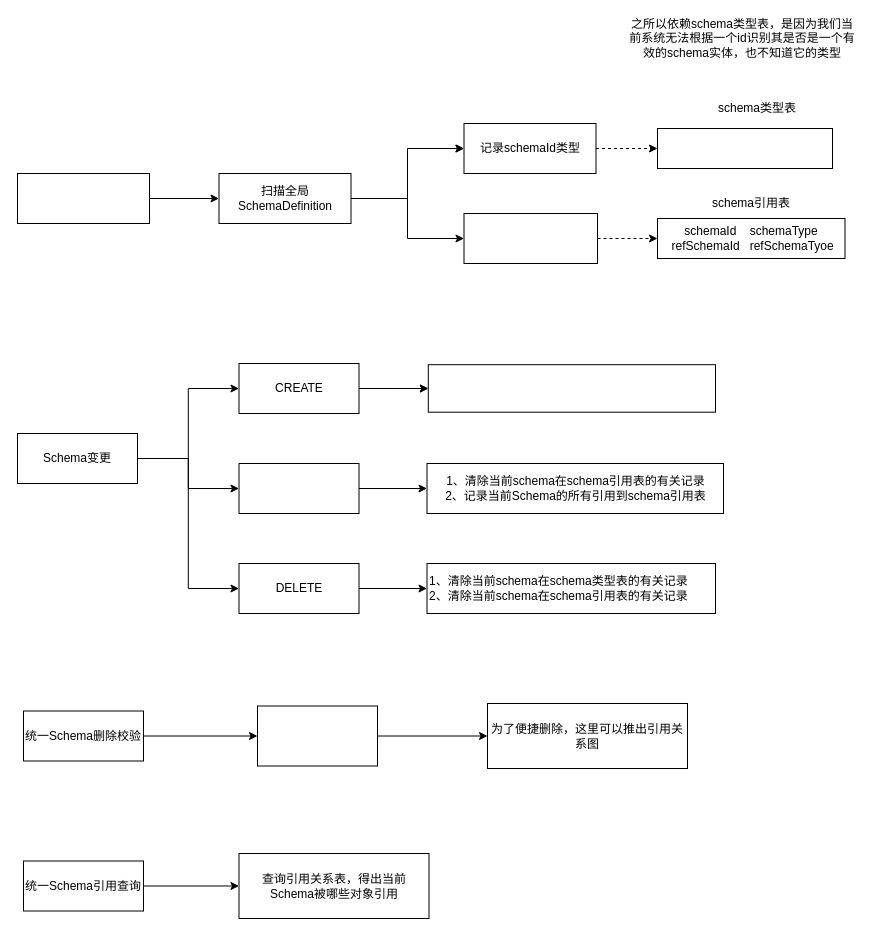
The diagram is 875 pixels wide and 936 high, and some of its shapes have lost their labels. The shapes that lost their labels are listed below. From the top down, each one's box as (x1, y1, x2, y2) in pixels, then its label:
(656, 128, 832, 168): schemaId -> SchemaType
(16, 172, 150, 224): 存量数据追补
(463, 212, 598, 264): 解析SchemaDefinition，记录它所有的引用
(427, 364, 716, 412): 1、记录当前Schema的类型到schema类型表 2、记录当前Schema的所有引用到schema引用表
(238, 462, 359, 514): UPDATE
(256, 705, 378, 766): 检索引用关系表，如果存在引用则不能删除
